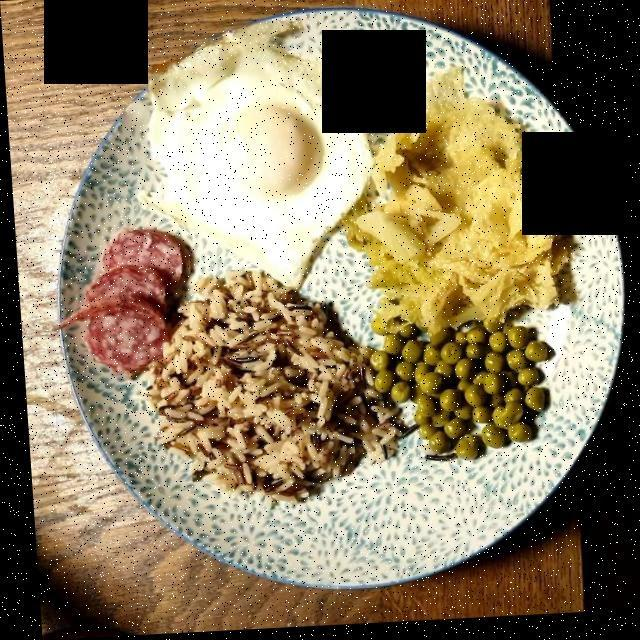cabbage: (353, 73, 568, 325)
egg: (146, 43, 368, 278)
peas: (376, 311, 544, 460)
rice-wild: (140, 277, 388, 496)
salami: (78, 229, 176, 373)
